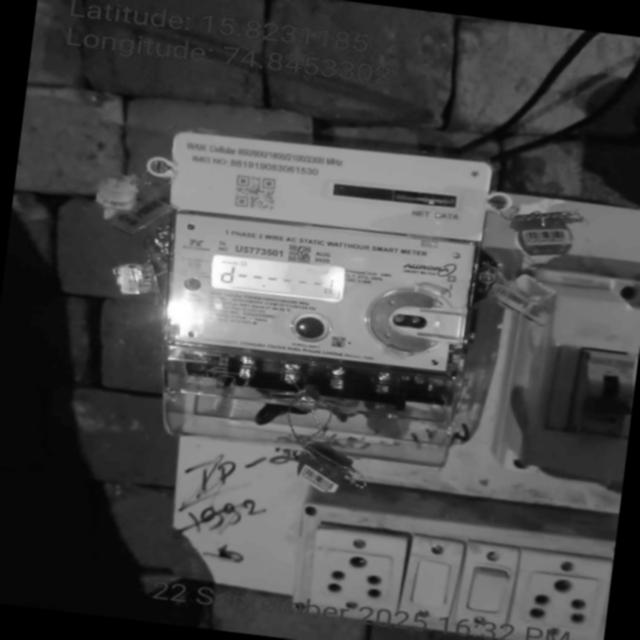meter: (153, 130, 488, 373)
